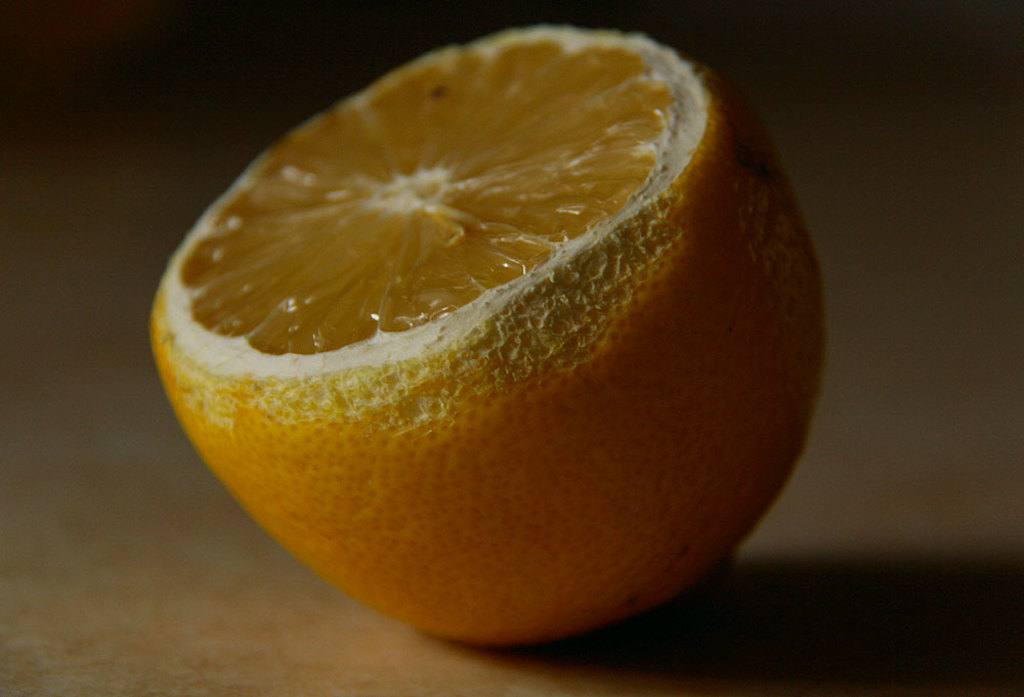Ripe: (150, 21, 828, 645)
